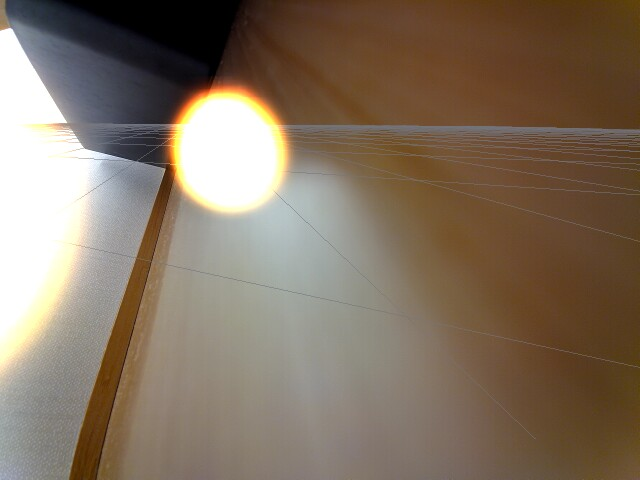fire: (5, 105, 91, 380), (167, 84, 295, 216)
